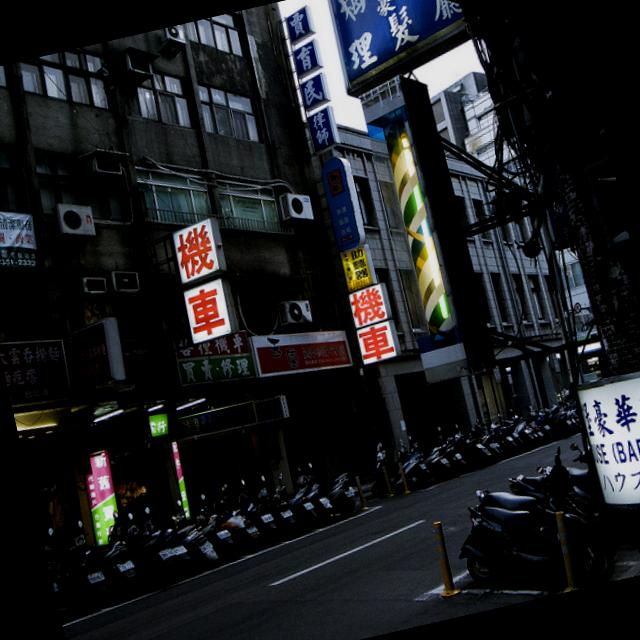Vehicle: (382, 412, 602, 550), (444, 474, 619, 614), (468, 436, 623, 586), (169, 482, 263, 566), (100, 500, 182, 595), (290, 452, 360, 526), (56, 536, 114, 612), (227, 472, 282, 551), (248, 469, 300, 546), (271, 468, 320, 534), (172, 516, 225, 576), (43, 539, 73, 615), (196, 512, 238, 564), (301, 485, 336, 529)
